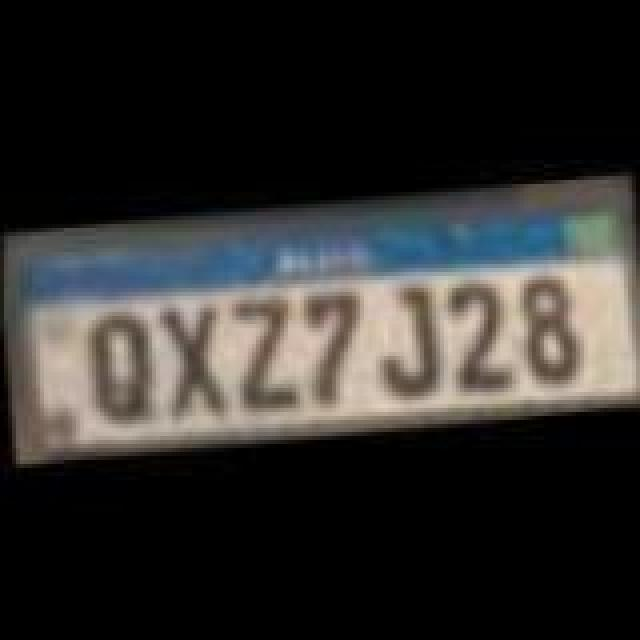2: (434, 274, 514, 398)
7: (298, 288, 370, 412)
8: (506, 268, 586, 388)
J: (370, 282, 450, 406)
Q: (82, 304, 162, 424)
X: (152, 298, 236, 422)
Z: (228, 288, 304, 412)
